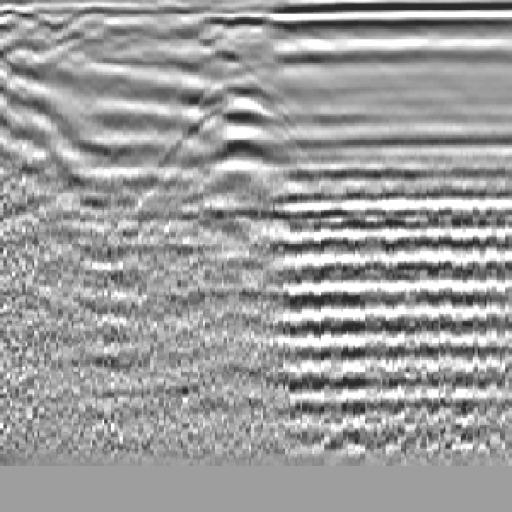metalic: (140, 52, 344, 213)
